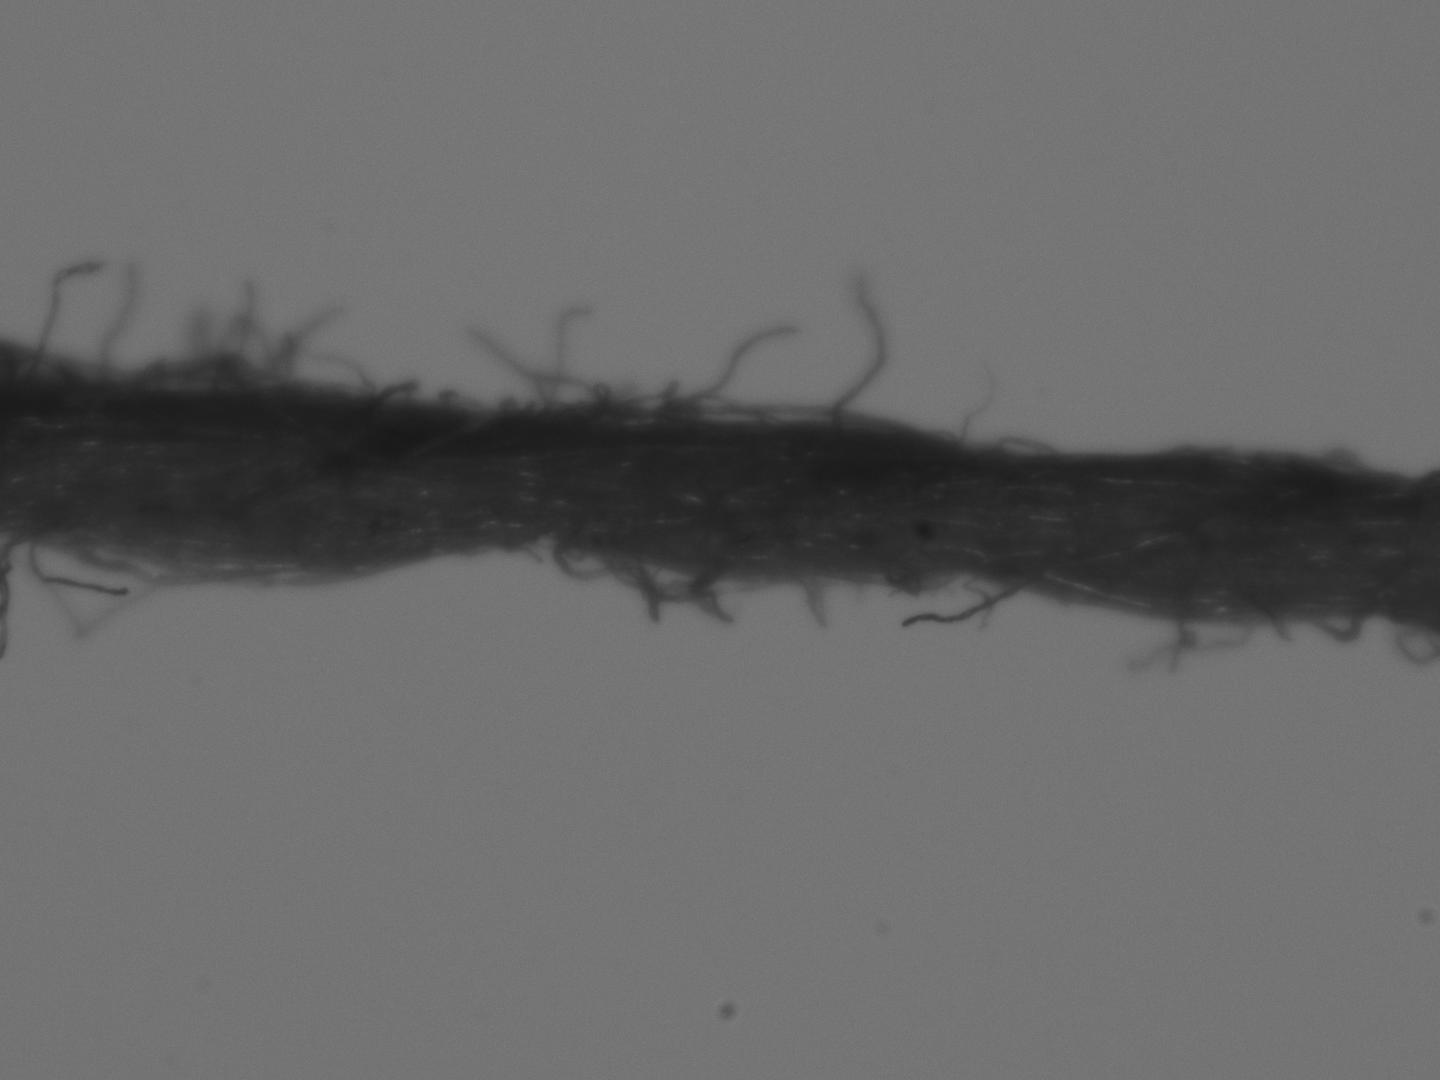loop_fiber: (27, 537, 412, 648), (461, 328, 692, 417), (551, 540, 785, 627), (130, 344, 387, 400), (1130, 613, 1260, 668), (1390, 625, 1439, 669), (1306, 615, 1370, 643)
protruding_fiber: (666, 319, 803, 420), (829, 267, 891, 430), (33, 252, 110, 374), (895, 577, 1048, 630), (98, 261, 141, 378), (553, 303, 599, 408), (955, 358, 1000, 450)
